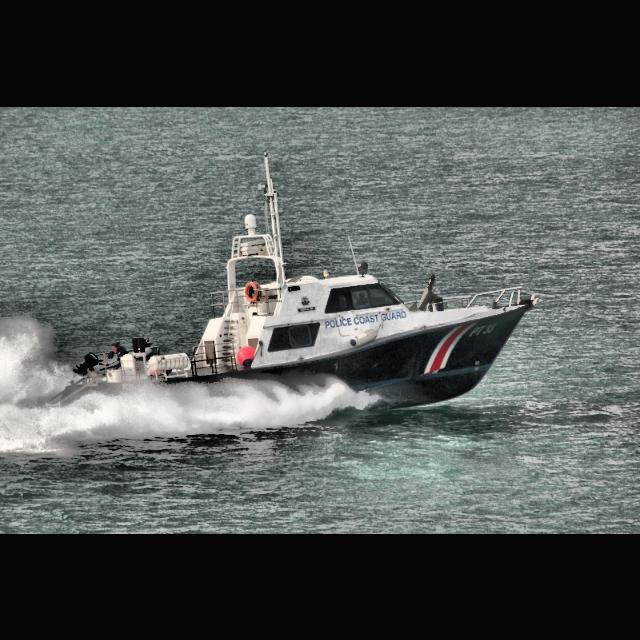patrol_vessel: (43, 150, 541, 414)
